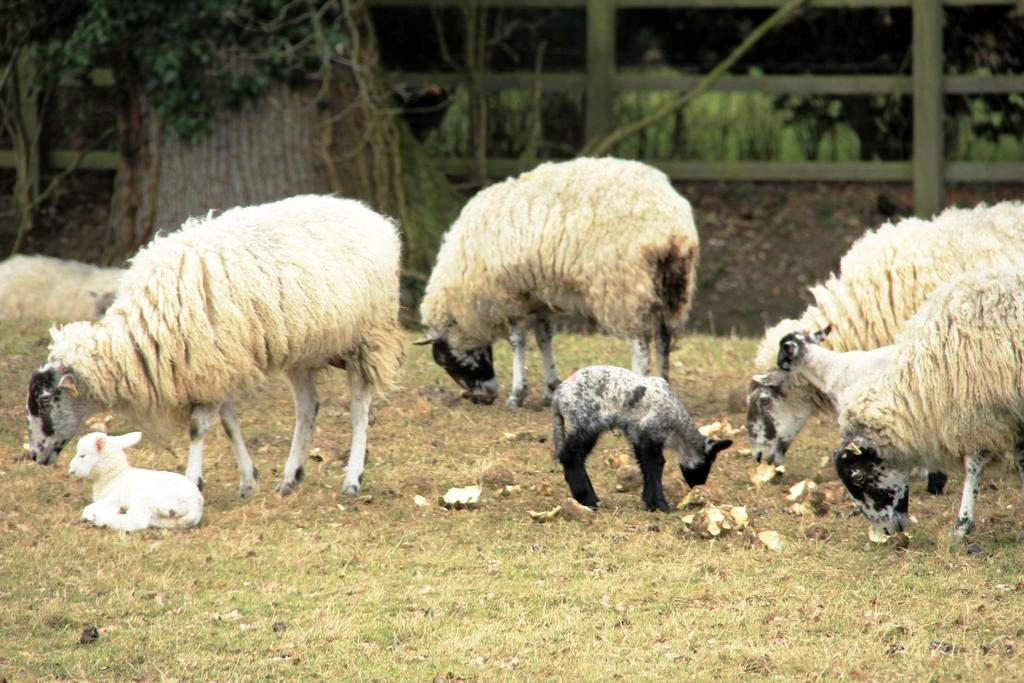Sheep: (22, 207, 420, 509), (746, 194, 1024, 496), (410, 160, 700, 414), (832, 265, 1024, 542), (551, 362, 735, 509), (68, 430, 204, 532), (778, 322, 902, 410)
